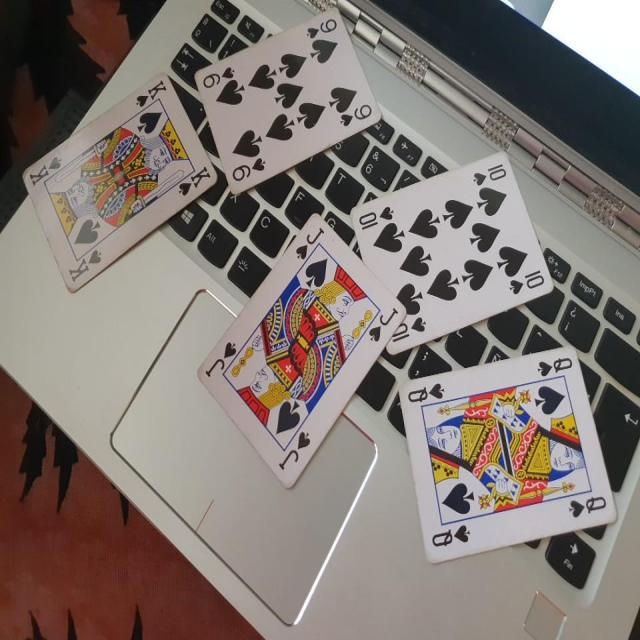10 of spades: (343, 142, 554, 362)
9 of spades: (185, 3, 380, 195)
jack of spades: (198, 208, 410, 494)
king of spades: (16, 65, 218, 298)
queen of spades: (405, 340, 620, 570)
